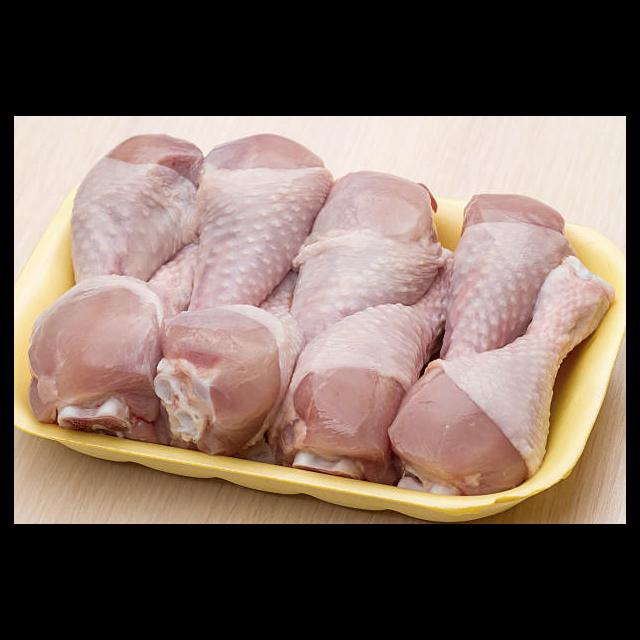chicken: (393, 257, 617, 514), (276, 169, 451, 446), (280, 244, 459, 472), (178, 132, 333, 315), (433, 192, 579, 361), (160, 304, 302, 454), (70, 132, 203, 282), (25, 276, 164, 419)
